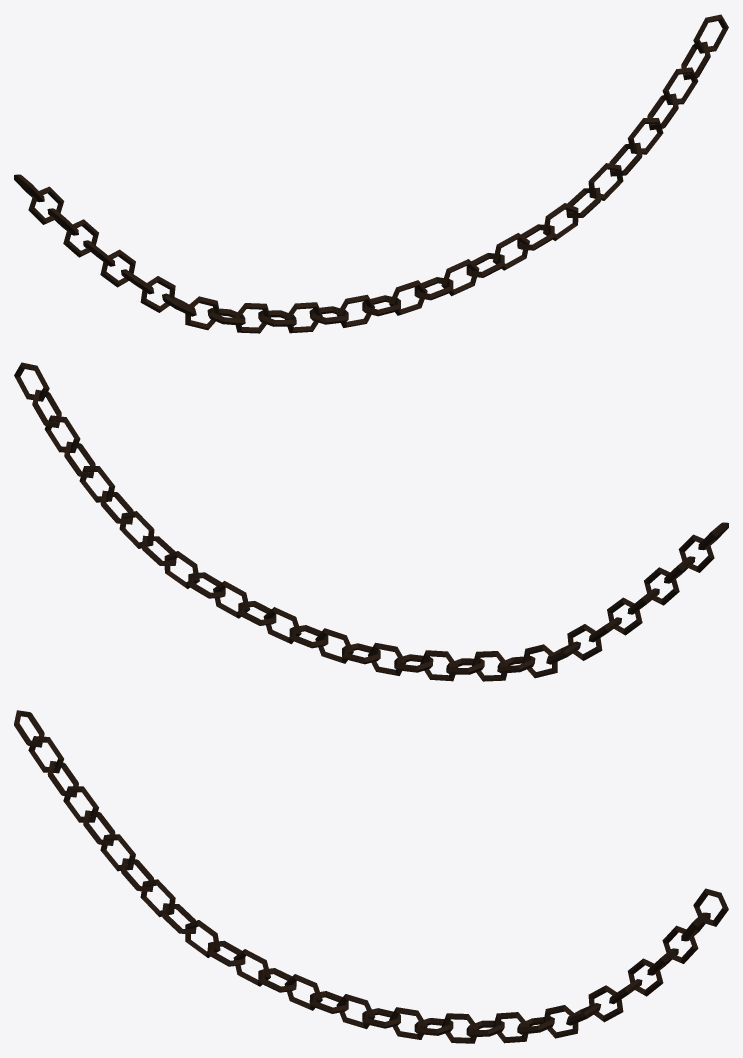
Rendered from SFFA_Chain_001.fbx.
3 renders of one model, top to bottom at view 1: azimuth 30°, elevation 25°; view 2: azimuth 150°, elevation 25°; view 3: azimuth 330°, elevation 25°, orthographic.
Visible parts, largest first — view 1: SFFA_Chain_001; view 2: SFFA_Chain_001; view 3: SFFA_Chain_001.
Part boxes in pixels (<box>): SFFA_Chain_001: <box>14,14,728,333</box>; SFFA_Chain_001: <box>14,362,728,681</box>; SFFA_Chain_001: <box>14,710,728,1043</box>.
Size of the model in its own units: 334 by 105 by 13.01.
